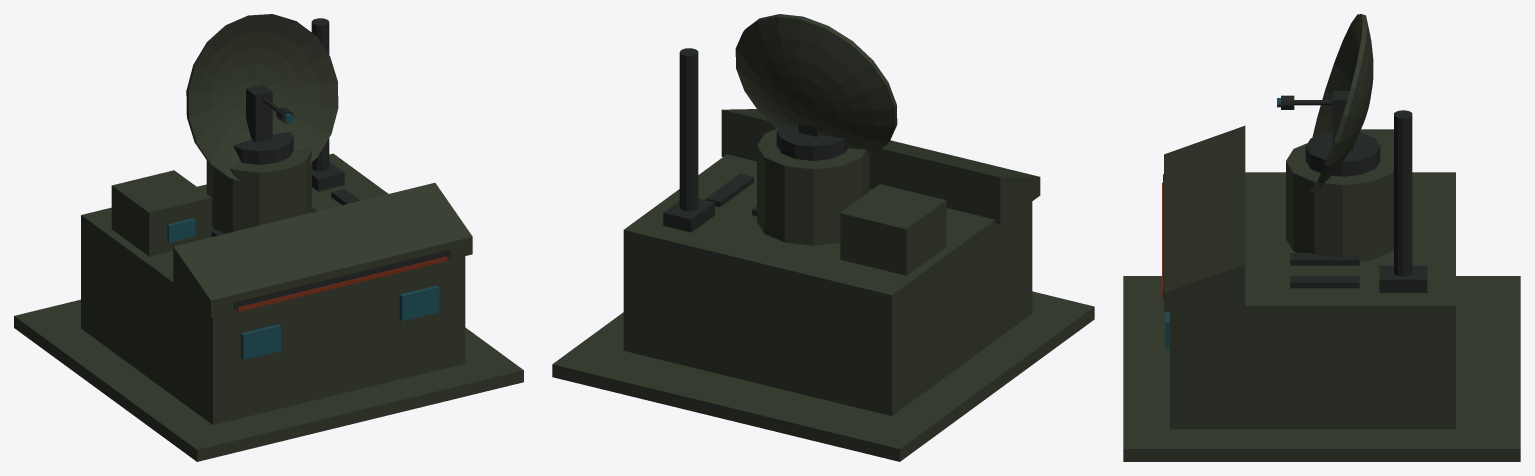
File: Bastion_CommunicationsCenter_Static.glb
The picture shows the model from 3 angles, left to right: view 1: azimuth 30°, elevation 25°; view 2: azimuth 150°, elevation 25°; view 3: azimuth 270°, elevation 25°; orthographic projection. The views are drawn at different scales.
Visible parts, largest first — view 1: world; view 2: world; view 3: world.
Part boxes in pixels (<box>): world: <box>14,14,523,461</box>; world: <box>552,14,1094,461</box>; world: <box>1123,14,1520,461</box>.
Size of the model in its own units: 6.8 by 6.47 by 6.6.
Materials: 1 (1 with a texture image).
